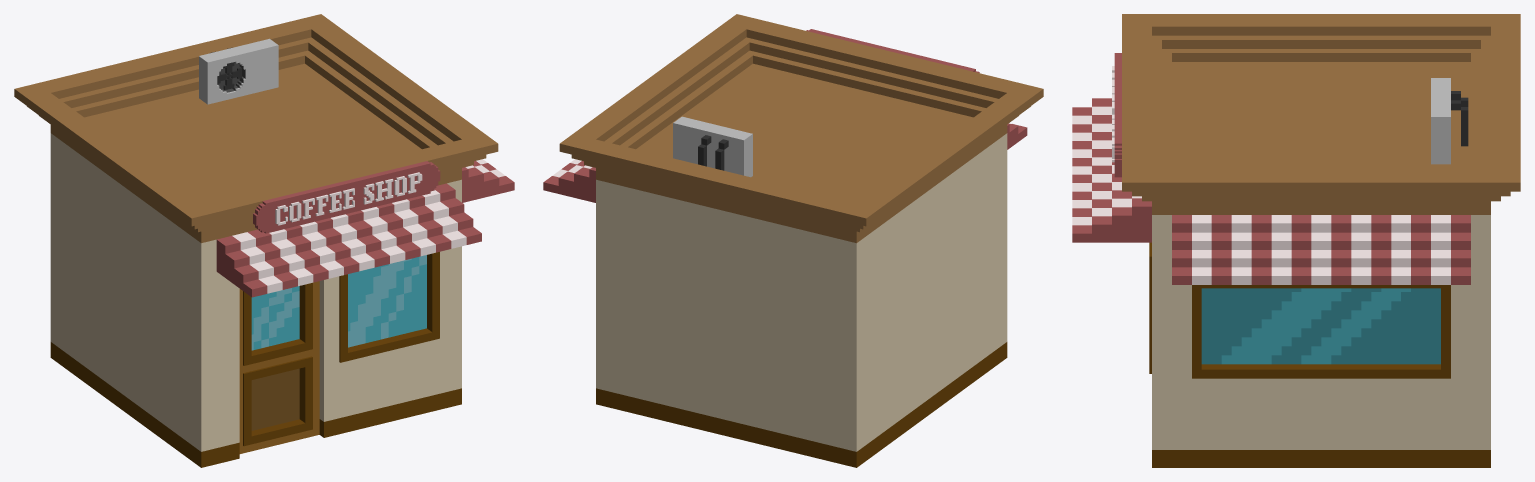
The model's file is coffee shop.obj.
3 views of the same model, side by side, from view 1: azimuth 30°, elevation 25°; view 2: azimuth 150°, elevation 25°; view 3: azimuth 270°, elevation 25° (orthographic). The views are drawn at different scales.
Size of the model in its own units: 18 by 14.1 by 18.
Materials: 1 (1 with a texture image).
